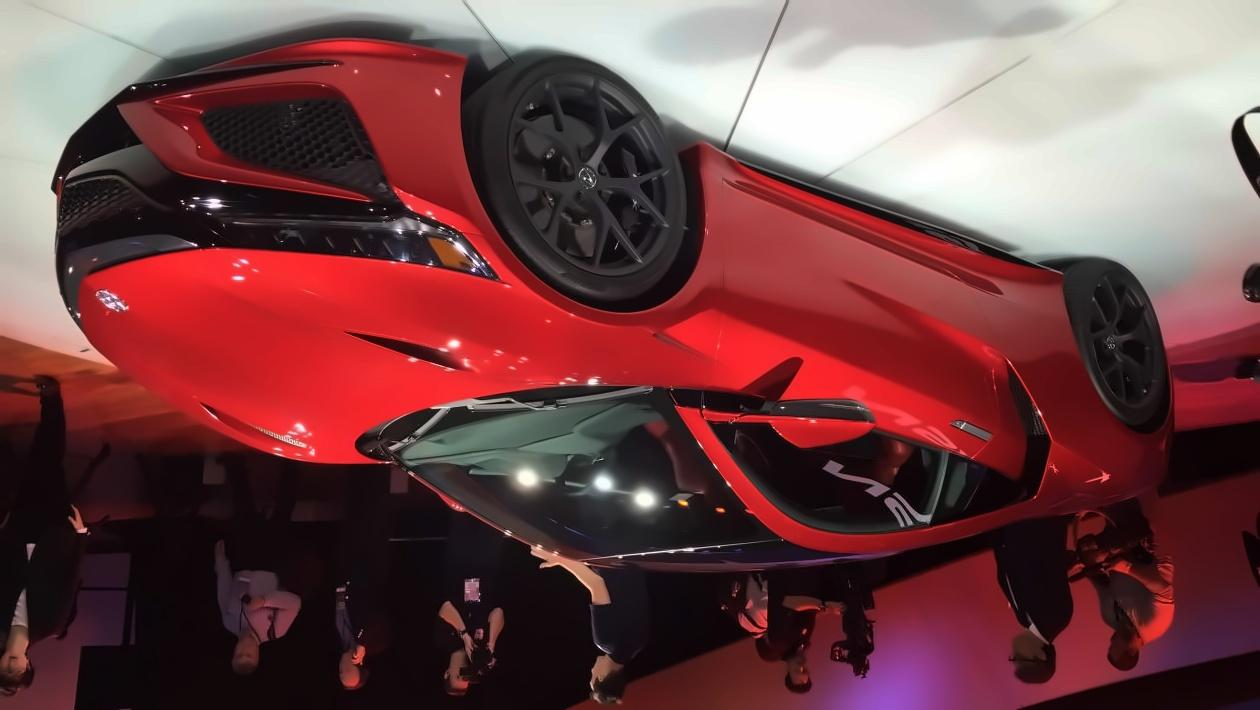Car hood: (67, 242, 572, 472)
Driver-s door - -F-R-: (724, 179, 1006, 564)
Fender - -F-R-: (532, 140, 740, 401)
Fender - -R-R-: (1037, 279, 1161, 532)
Front bumper: (49, 27, 481, 220)
Headlight - -R-: (169, 174, 508, 287)
Side bumper - -R-: (697, 129, 1063, 301)
Side mirror - -R-: (747, 372, 890, 464)
